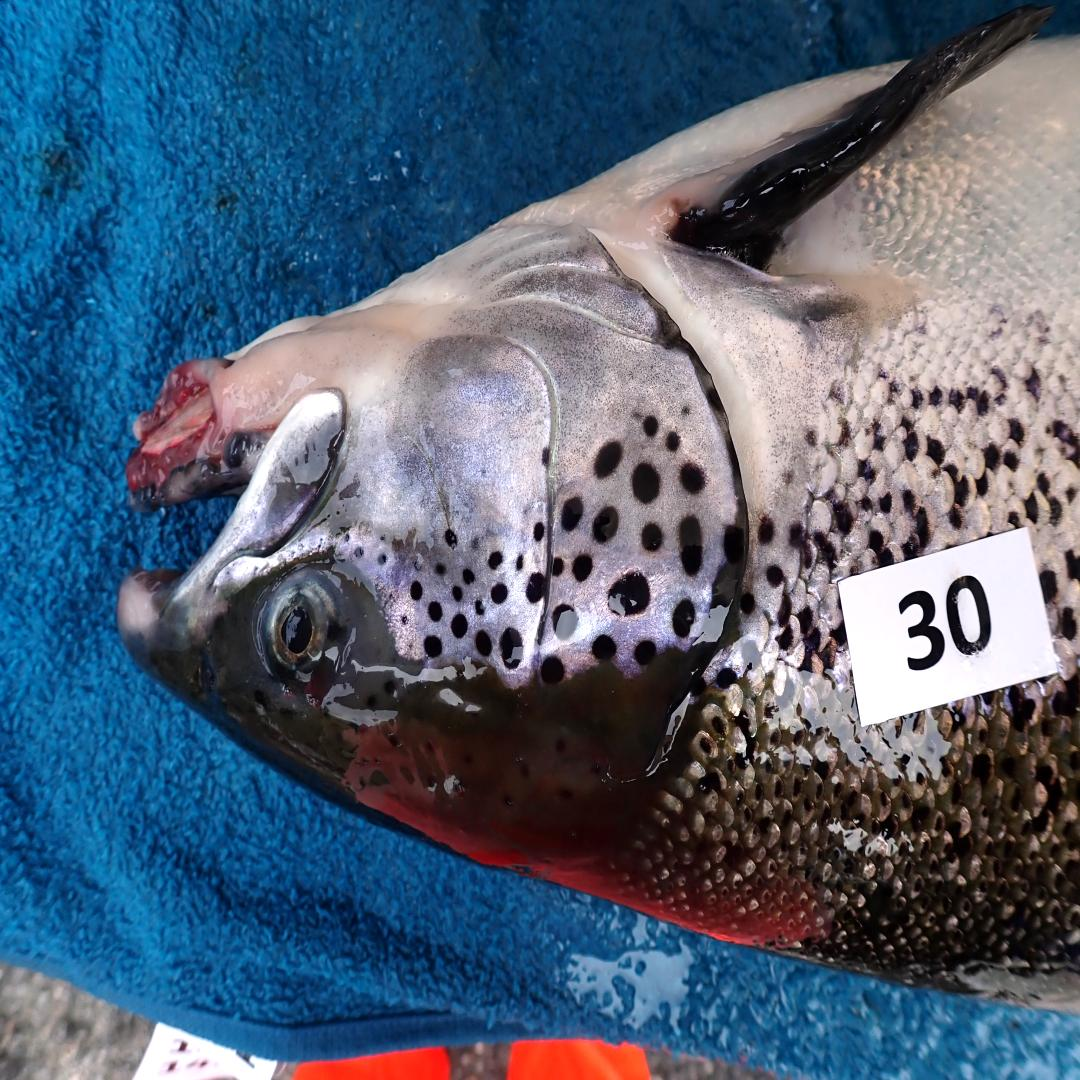roi: (343, 214, 741, 688)
